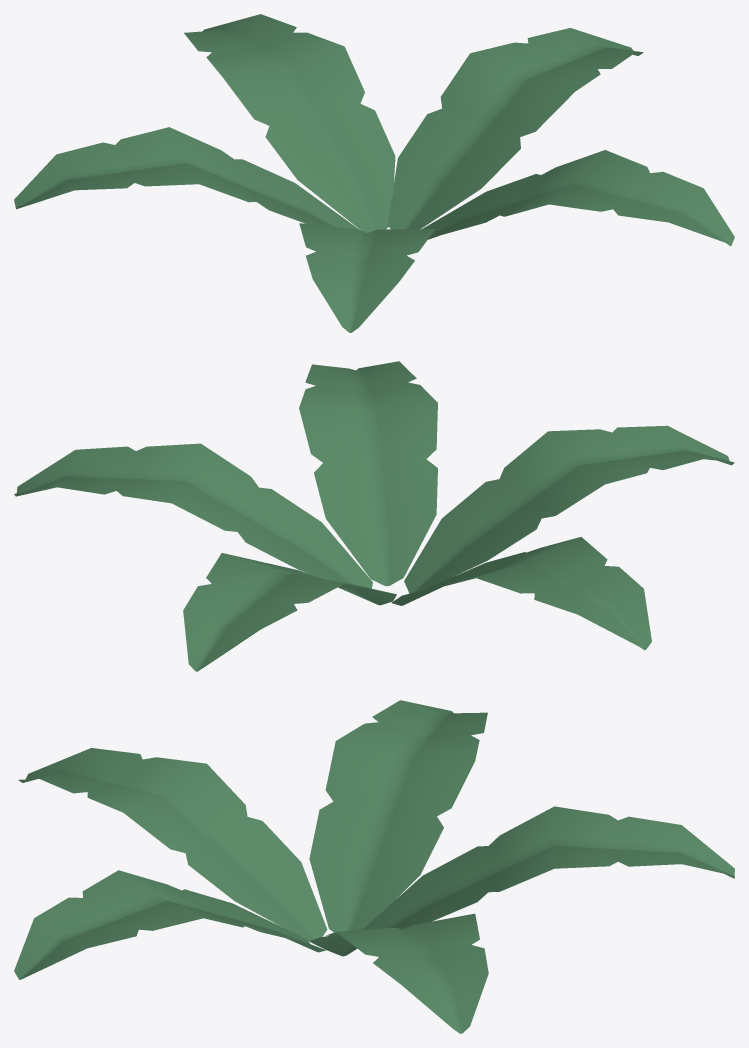
Rendered from Fern.fbx.
3 renders of one model, top to bottom at view 1: azimuth 30°, elevation 25°; view 2: azimuth 150°, elevation 25°; view 3: azimuth 270°, elevation 25°, orthographic. The views are drawn at different scales.
Parts seen in each view (by area): view 1: Fern; view 2: Fern; view 3: Fern.
Part boxes in pixels (x1,y1,x2,y2): Fern: [14, 14, 734, 332]; Fern: [14, 361, 734, 671]; Fern: [14, 700, 734, 1033].
Bounding box in the file's own units: 352 × 57.69 × 336.
